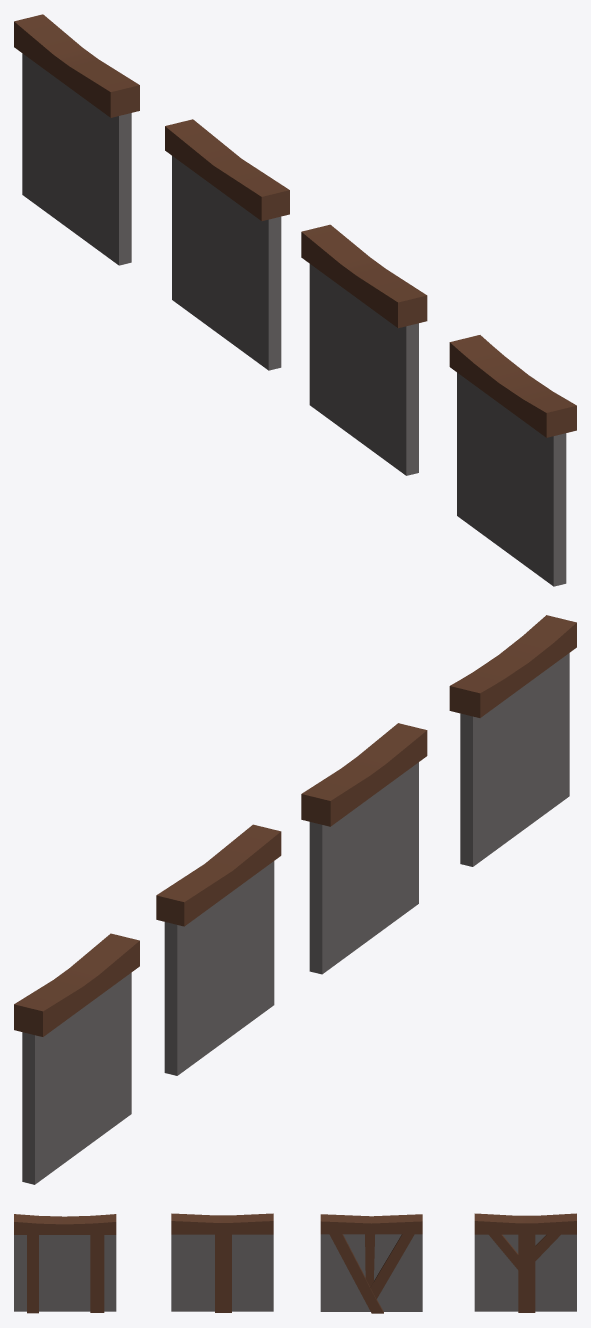
The model's file is muur_feed.fbx.
3 views of the same model, one above another, from view 1: azimuth 30°, elevation 25°; view 2: azimuth 150°, elevation 25°; view 3: azimuth 270°, elevation 25° (orthographic). The views are drawn at different scales.
Visible parts, largest first — view 1: pCube5, pCube6, pCube7, pCube8; view 2: pCube5, pCube7, pCube6, pCube8; view 3: pCube6, pCube8, pCube7, pCube5.
Boxes of the visible parts, x1,y1,x2,y2 form: pCube5: [449, 335, 576, 586]; pCube6: [301, 224, 427, 475]; pCube7: [165, 119, 289, 370]; pCube8: [14, 14, 139, 265]; pCube5: [449, 615, 576, 866]; pCube7: [156, 824, 281, 1075]; pCube6: [301, 723, 427, 974]; pCube8: [14, 933, 139, 1184]; pCube6: [171, 1213, 273, 1312]; pCube8: [474, 1213, 576, 1312]; pCube7: [320, 1214, 422, 1313]; pCube5: [14, 1214, 116, 1313].
Bounding box in the file's own units: 0.4005 × 2.03 × 11.01.
